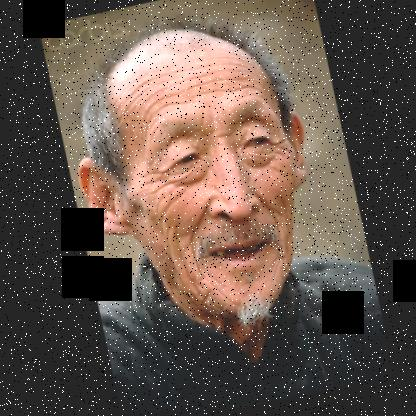Male: (50, 8, 339, 345)
